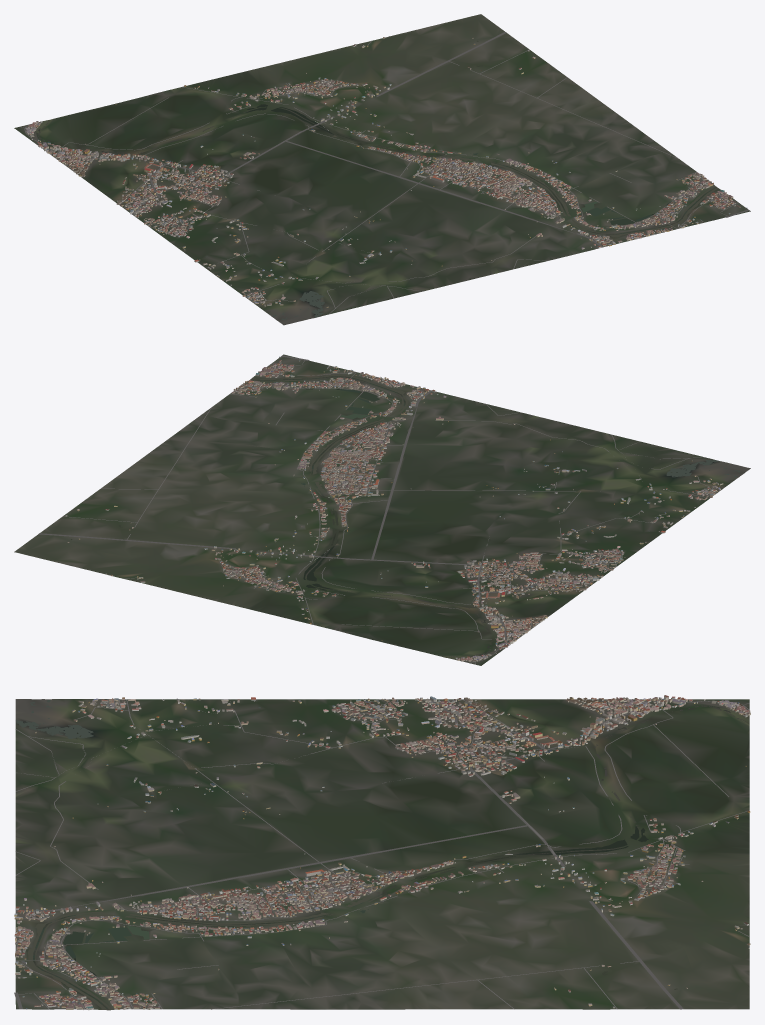
The picture shows the model from 3 angles, top to bottom: view 1: azimuth 30°, elevation 25°; view 2: azimuth 150°, elevation 25°; view 3: azimuth 270°, elevation 25°; orthographic projection. The views are drawn at different scales.
Visible parts, largest first — view 1: ground, buildings, roads, water; view 2: ground, buildings, roads, water; view 3: ground, buildings, roads, water.
Boxes of the visible parts, <box> form: ground: <box>14,14,750,325</box>; buildings: <box>25,36,747,307</box>; roads: <box>19,32,749,314</box>; water: <box>37,41,718,320</box>; ground: <box>14,354,750,665</box>; buildings: <box>65,356,723,661</box>; roads: <box>39,355,720,664</box>; water: <box>71,374,743,657</box>; ground: <box>15,699,749,1010</box>; buildings: <box>14,695,750,1010</box>; roads: <box>14,699,749,1009</box>; water: <box>16,699,745,1009</box>.
Size of the model in its own units: 2817 by 27.52 by 2815.
